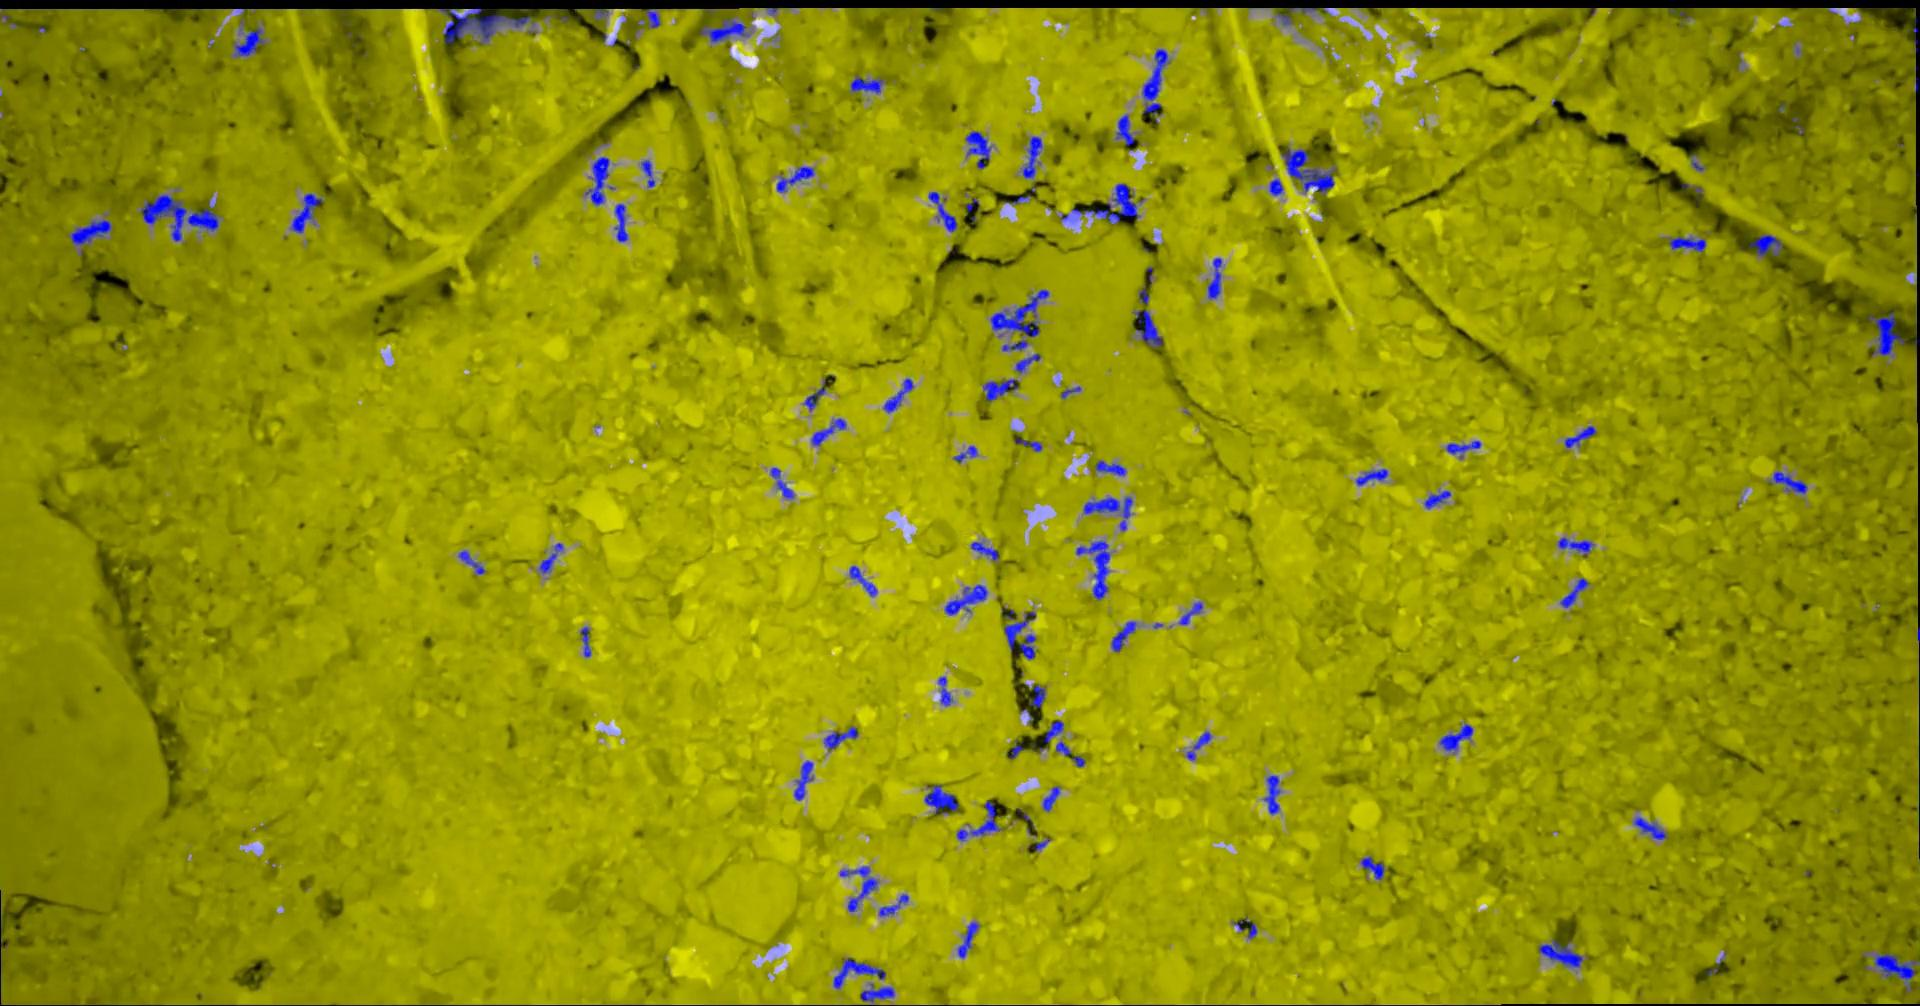ant: (1070, 183, 1138, 224), (990, 290, 1048, 337), (1281, 147, 1335, 192), (1076, 540, 1109, 600), (1142, 48, 1168, 116), (956, 800, 1001, 840), (839, 866, 877, 911), (1083, 495, 1131, 530), (1874, 953, 1919, 989), (832, 958, 885, 988), (1867, 311, 1903, 354), (1003, 608, 1035, 650), (943, 584, 987, 615), (290, 193, 321, 232), (1538, 939, 1582, 967), (584, 156, 608, 205), (928, 191, 956, 231), (698, 19, 745, 42), (69, 218, 110, 244), (1134, 309, 1162, 347), (883, 379, 913, 412), (924, 784, 957, 814), (232, 25, 264, 56), (965, 131, 990, 168), (776, 166, 813, 192), (811, 418, 846, 445), (1559, 577, 1589, 607), (1022, 136, 1043, 178), (1439, 724, 1472, 749), (1633, 815, 1667, 840), (792, 760, 813, 800), (982, 379, 1017, 401), (850, 565, 876, 596), (1770, 471, 1807, 493), (823, 727, 857, 749), (1749, 234, 1782, 257), (1055, 741, 1084, 766), (538, 542, 563, 573), (1111, 621, 1135, 652), (957, 921, 978, 956), (804, 377, 825, 410), (1186, 730, 1210, 760), (770, 467, 792, 498), (1564, 426, 1595, 447), (877, 893, 908, 915), (1446, 439, 1481, 459), (860, 983, 894, 1002), (1276, 8, 1316, 24), (1263, 775, 1280, 814), (1557, 537, 1592, 555), (1208, 257, 1222, 298), (1115, 114, 1134, 145), (458, 550, 484, 573), (850, 75, 881, 93), (1355, 467, 1387, 485), (1669, 236, 1705, 251), (1178, 601, 1203, 624), (1360, 856, 1384, 879), (970, 541, 998, 560), (1232, 917, 1256, 937), (615, 203, 627, 241), (1015, 353, 1040, 372), (1423, 490, 1450, 508), (1095, 460, 1125, 475), (1017, 634, 1035, 659), (1043, 720, 1063, 742), (952, 445, 977, 462), (938, 676, 952, 705), (1043, 786, 1059, 810), (1013, 437, 1041, 451), (640, 160, 654, 187), (1029, 683, 1044, 708), (580, 626, 590, 655), (1002, 339, 1027, 351), (1010, 739, 1025, 758), (646, 8, 660, 27), (1269, 178, 1283, 196), (590, 8, 608, 19), (1138, 285, 1148, 304)
